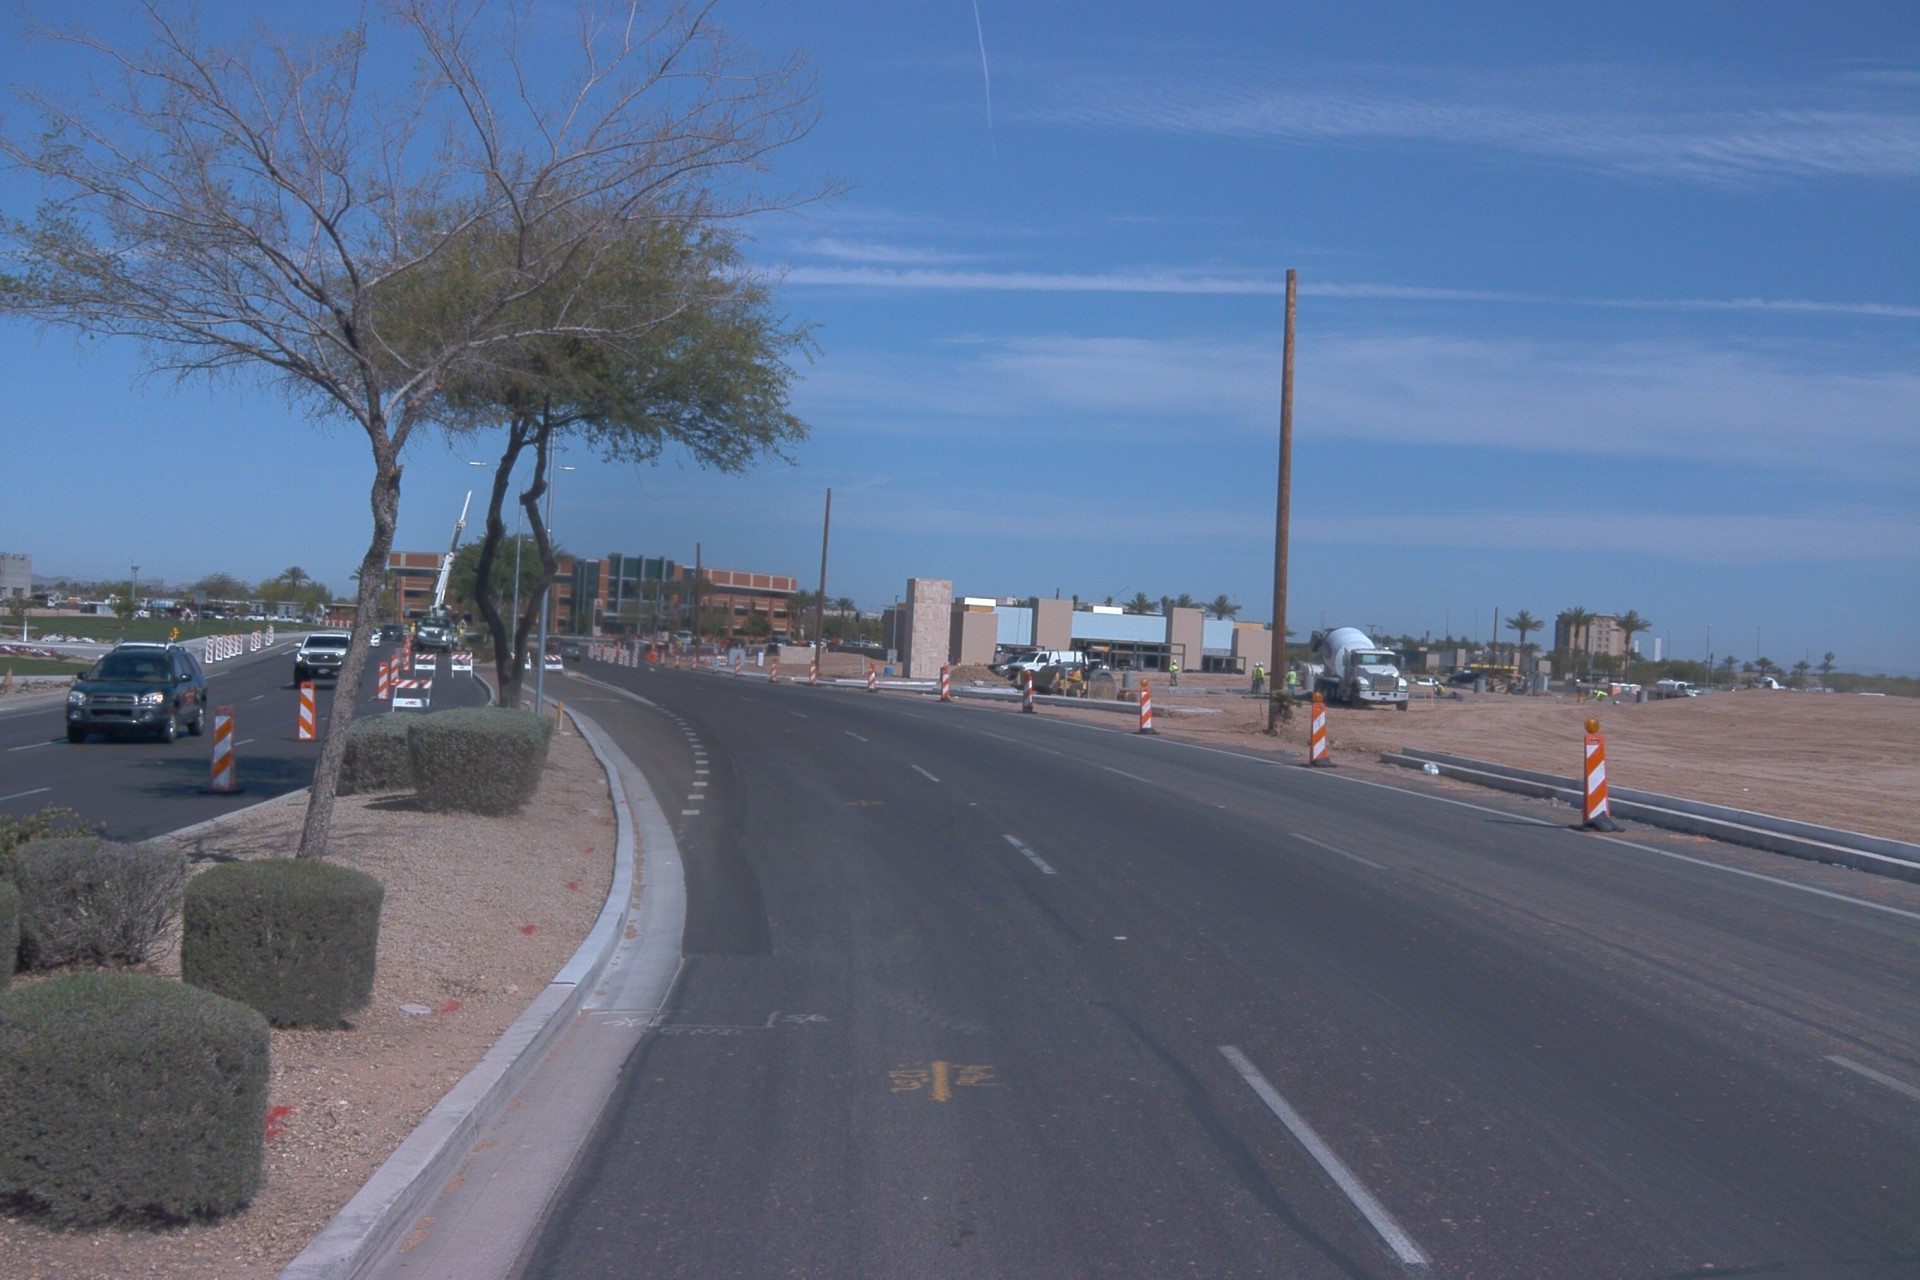TYPE_PEDESTRIAN: (1284, 666, 1298, 699), (1247, 663, 1260, 698), (1254, 660, 1266, 696), (1167, 659, 1179, 686), (1433, 681, 1447, 697), (457, 625, 464, 641), (678, 637, 684, 649)
TYPE_VEHICLE: (64, 647, 207, 745), (406, 478, 478, 661), (290, 629, 355, 689), (95, 637, 191, 669), (1006, 651, 1089, 682), (593, 616, 627, 660), (641, 630, 687, 658), (1651, 678, 1703, 702), (987, 655, 1026, 683), (19, 591, 63, 613), (764, 635, 796, 656), (1488, 682, 1529, 698), (551, 641, 582, 662), (672, 629, 706, 647), (1297, 663, 1326, 682), (228, 607, 265, 621), (1088, 653, 1111, 673), (544, 635, 565, 651), (1859, 688, 1889, 698), (77, 599, 98, 613), (384, 625, 403, 640), (366, 630, 381, 649), (1214, 666, 1245, 675), (1415, 677, 1440, 688), (136, 604, 153, 620), (1179, 668, 1206, 674), (1262, 670, 1271, 676)
